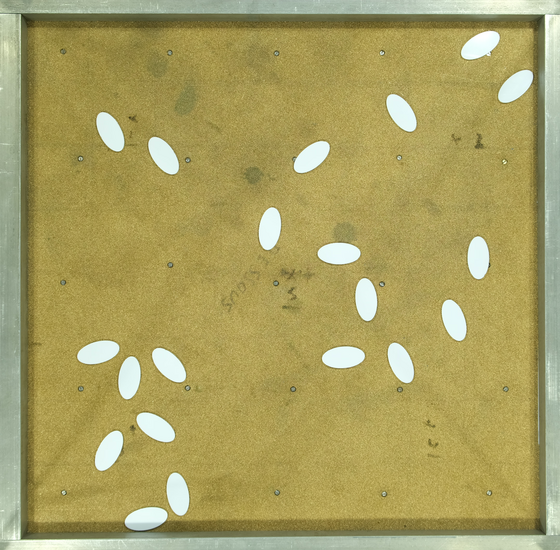pallet: (85, 425, 129, 473), (457, 21, 501, 69), (494, 64, 538, 112), (290, 132, 334, 180), (380, 90, 424, 138), (459, 234, 503, 282), (431, 296, 475, 344), (348, 277, 392, 325), (373, 339, 417, 387), (133, 404, 177, 452), (154, 468, 198, 516), (147, 342, 191, 390), (105, 355, 149, 403), (245, 204, 289, 252), (142, 133, 186, 181), (87, 107, 131, 155), (71, 331, 120, 372), (121, 499, 170, 540), (318, 335, 367, 376), (315, 233, 364, 274)
